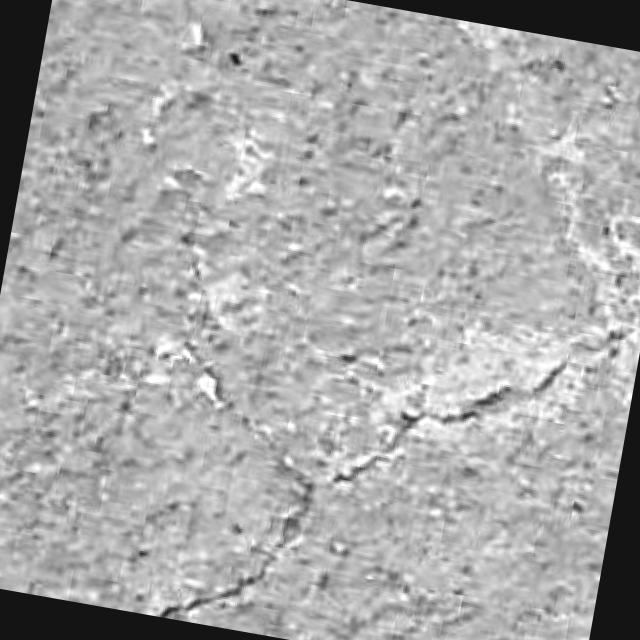crack: (331, 358, 569, 485), (156, 464, 315, 618), (329, 411, 429, 486)
